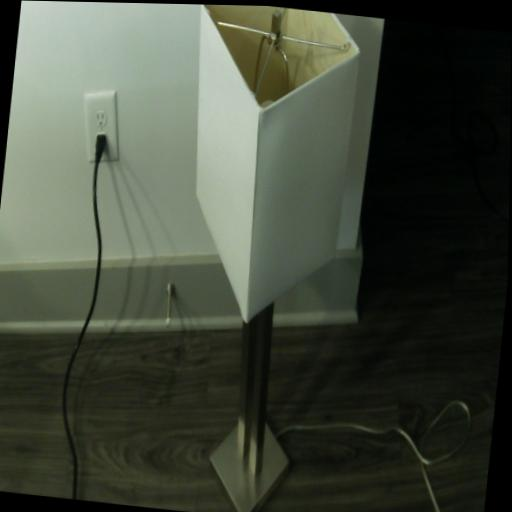lamp: (148, 3, 364, 512)
